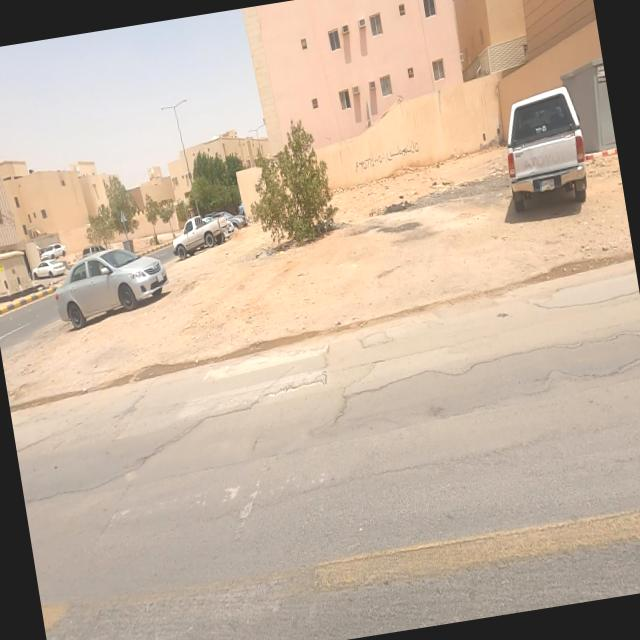Graffiti: (353, 142, 424, 175)
